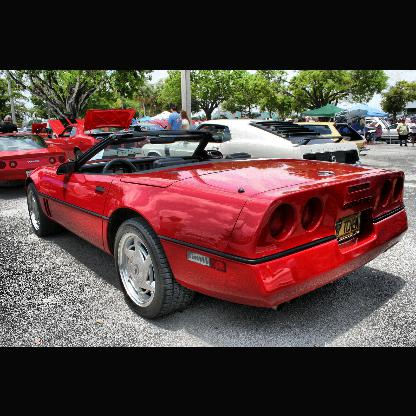Chevrolet Corvette Convertible 2012: (27, 133, 411, 322)
